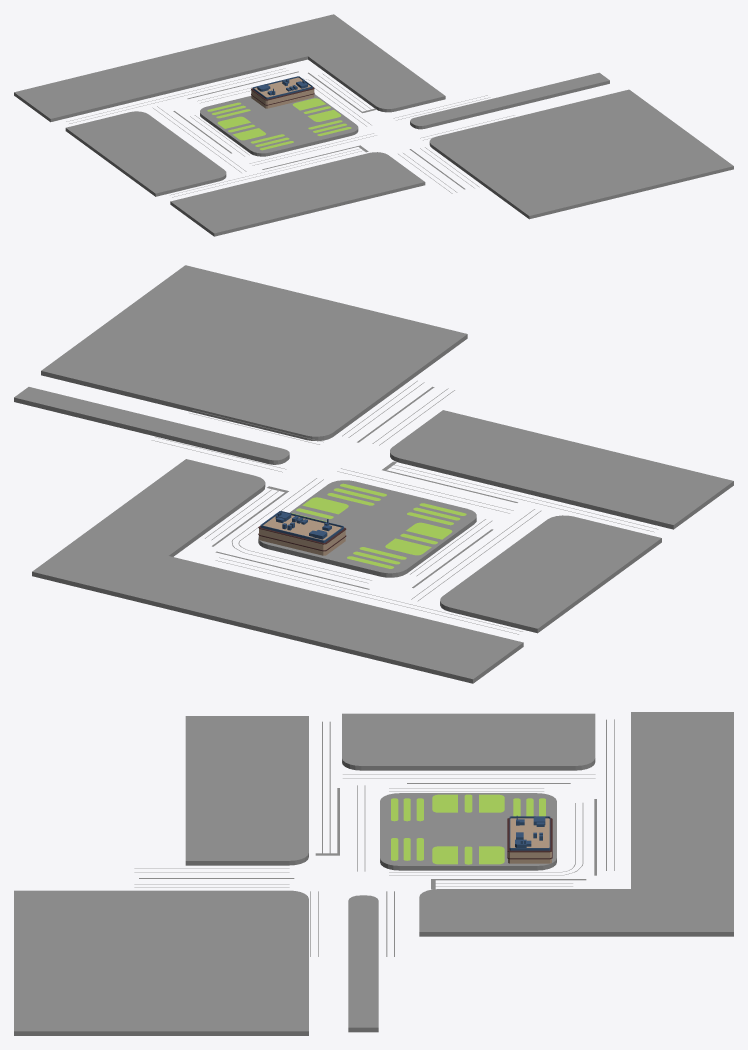
File: mdl_closer_enviro.fbx
3 views of the same model, one above another, from view 1: azimuth 30°, elevation 25°; view 2: azimuth 150°, elevation 25°; view 3: azimuth 270°, elevation 25° (orthographic). The views are drawn at different scales.
Visible parts, largest first — view 1: Cube, marquages, Jardin, Cube.009; view 2: Cube, marquages, Jardin, Cube.009; view 3: Cube, marquages, Jardin, Cube.009.
Boxes of the visible parts, x1=… form: Cube: x1=14, y1=14, x2=733, y2=236; marquages: x1=66, y1=68, x2=514, y2=197; Jardin: x1=207, y1=98, x2=351, y2=150; Cube.009: x1=251, y1=76, x2=314, y2=108; Cube: x1=14, y1=265, x2=733, y2=683; marquages: x1=151, y1=380, x2=658, y2=634; Jardin: x1=292, y1=483, x2=466, y2=568; Cube.009: x1=258, y1=511, x2=346, y2=555; Cube: x1=14, y1=712, x2=733, y2=1035; marquages: x1=134, y1=719, x2=614, y2=956; Jardin: x1=391, y1=794, x2=545, y2=864; Cube.009: x1=507, y1=815, x2=552, y2=863.
Bounding box in the file's own units: 303 × 11.53 × 289.
